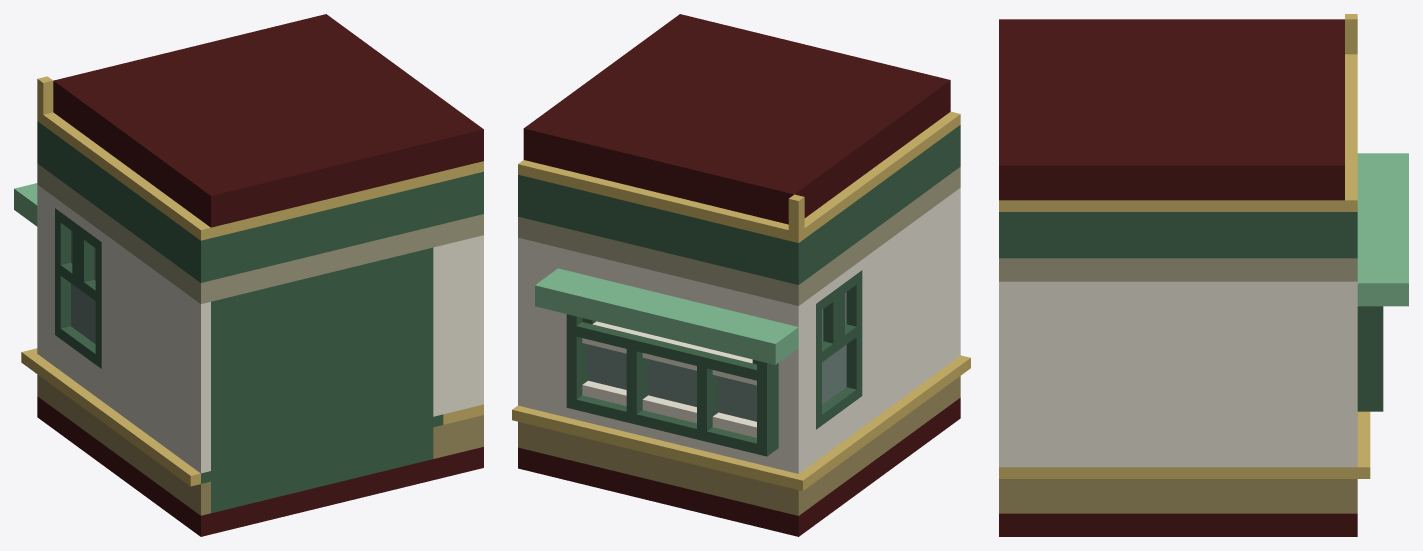
File: tile_2_right_nr_corner_90.obj
The picture shows the model from 3 angles, left to right: view 1: azimuth 30°, elevation 25°; view 2: azimuth 150°, elevation 25°; view 3: azimuth 270°, elevation 25°; orthographic projection. The views are drawn at different scales.
Size of the model in its own units: 2.9 by 3.2 by 3.2.
Materials: 1 (1 with a texture image).
